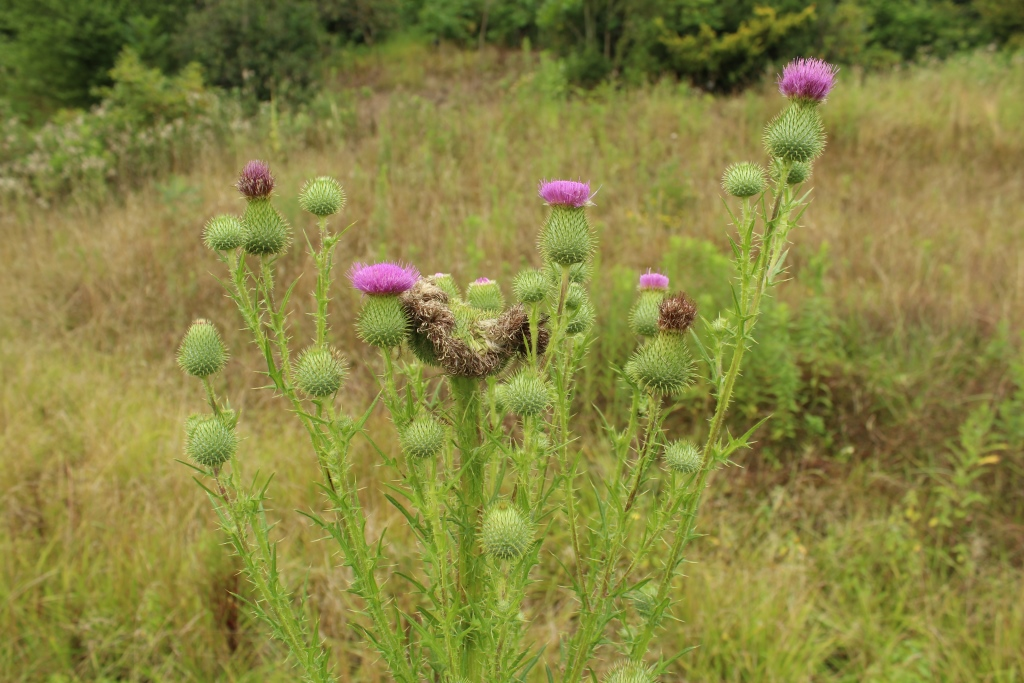thistle: (761, 45, 835, 167), (342, 254, 421, 358), (523, 169, 606, 266), (233, 158, 296, 267), (630, 267, 683, 334)
